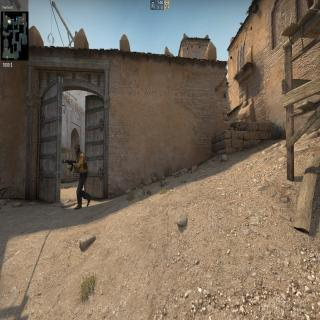T-Head: (74, 141, 81, 156)
